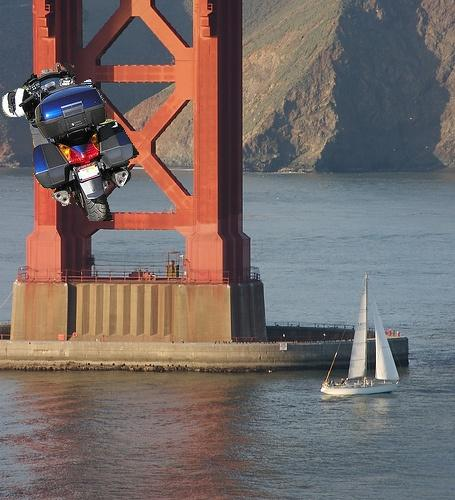tampered: (3, 62, 139, 221)
